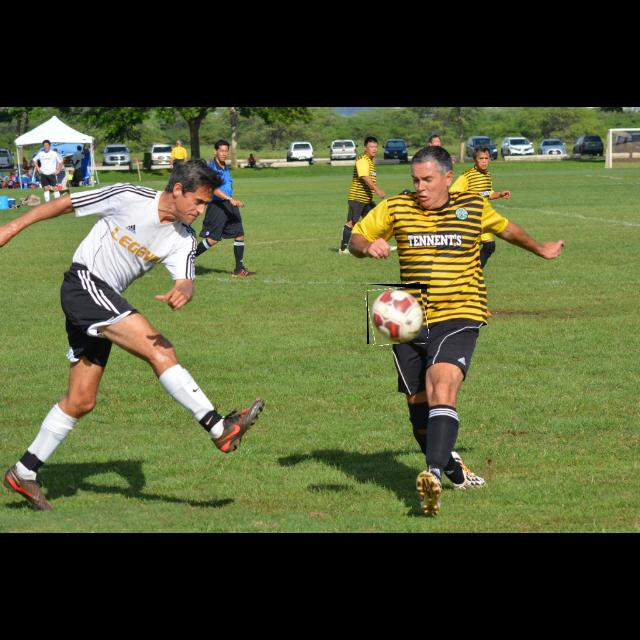Football: (367, 284, 427, 344)
